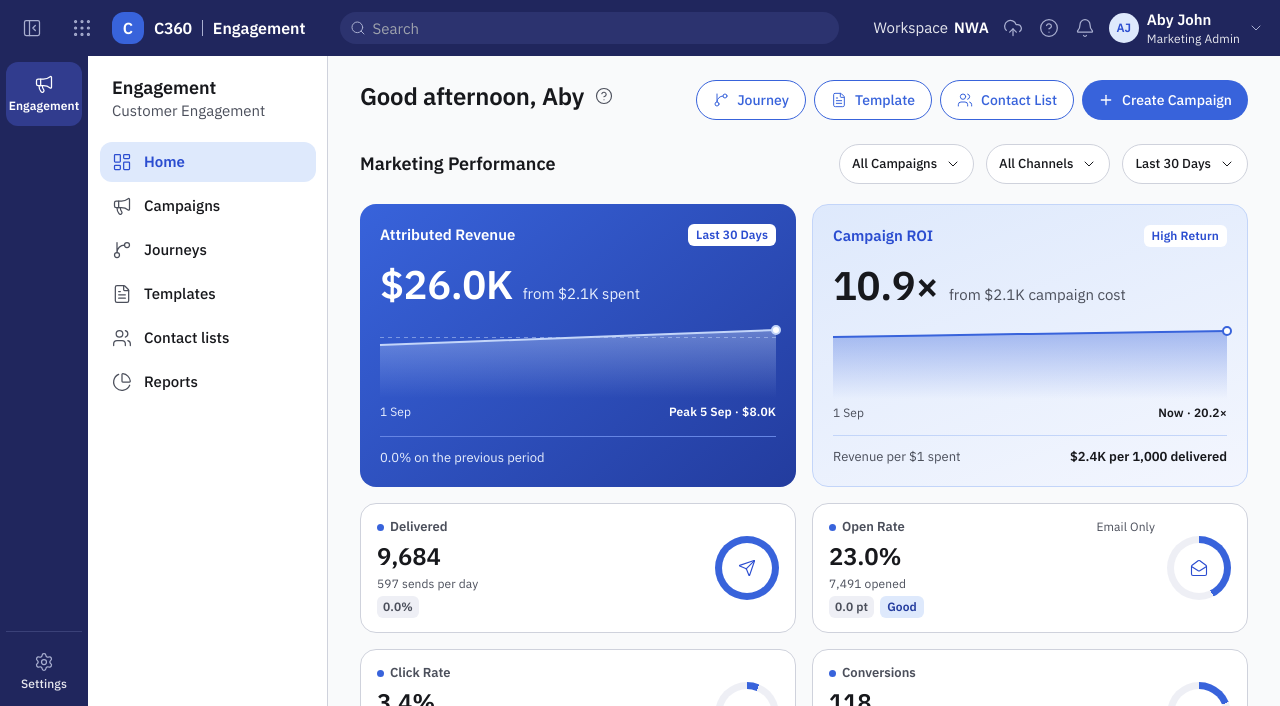
Test: every Create button on Home opens its pop-up on Home, never another page
Click the button "Create Campaign": (1165, 100) 1082,80 -> 1248,120
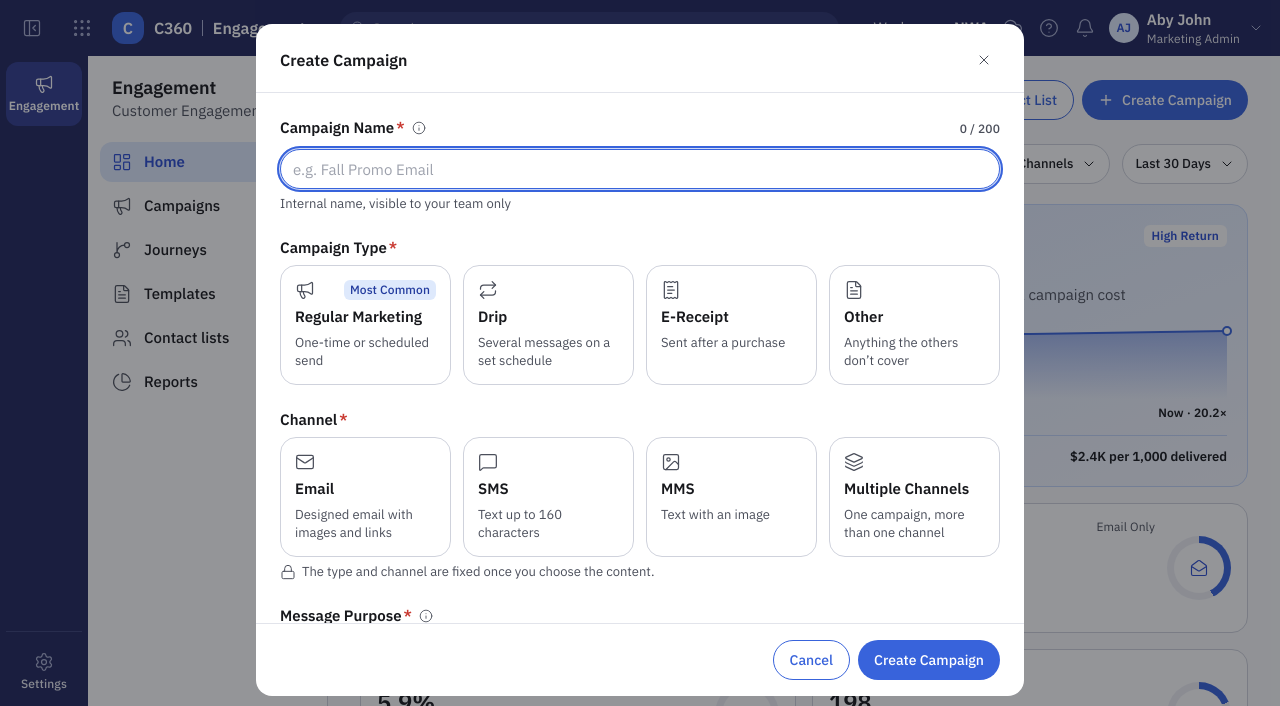
Now the heading "Create Campaign" is shown, box 280,48 -> 407,72
Press Escape
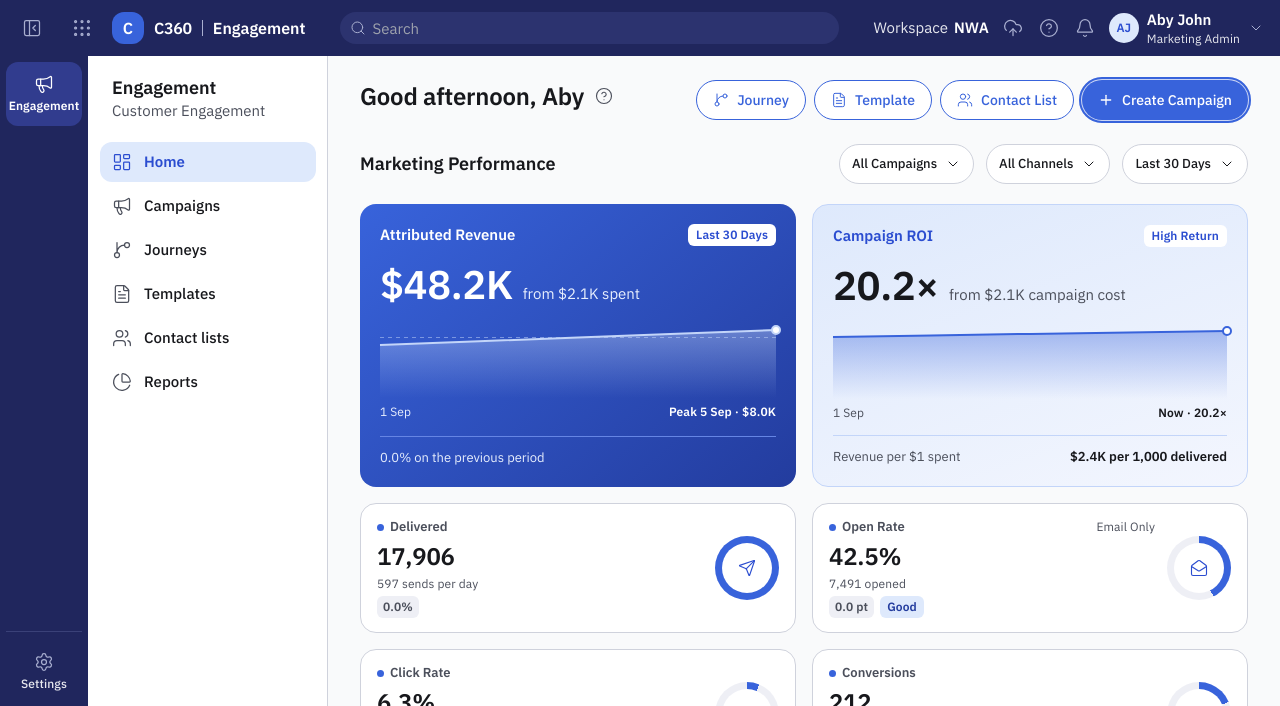
Now the dialog is gone
Click the button "Contact List": (1007, 100) 940,80 -> 1074,120
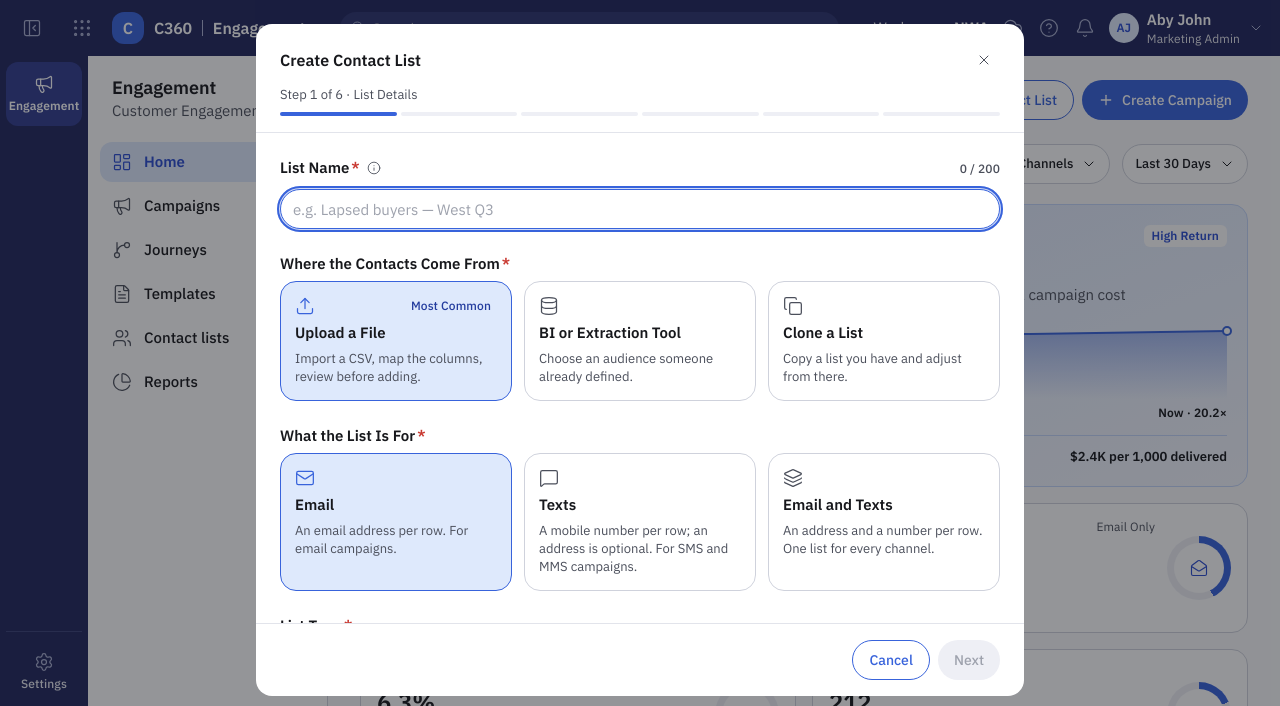
Now the heading "Create Contact List" is shown, box 280,48 -> 421,72
Press Escape
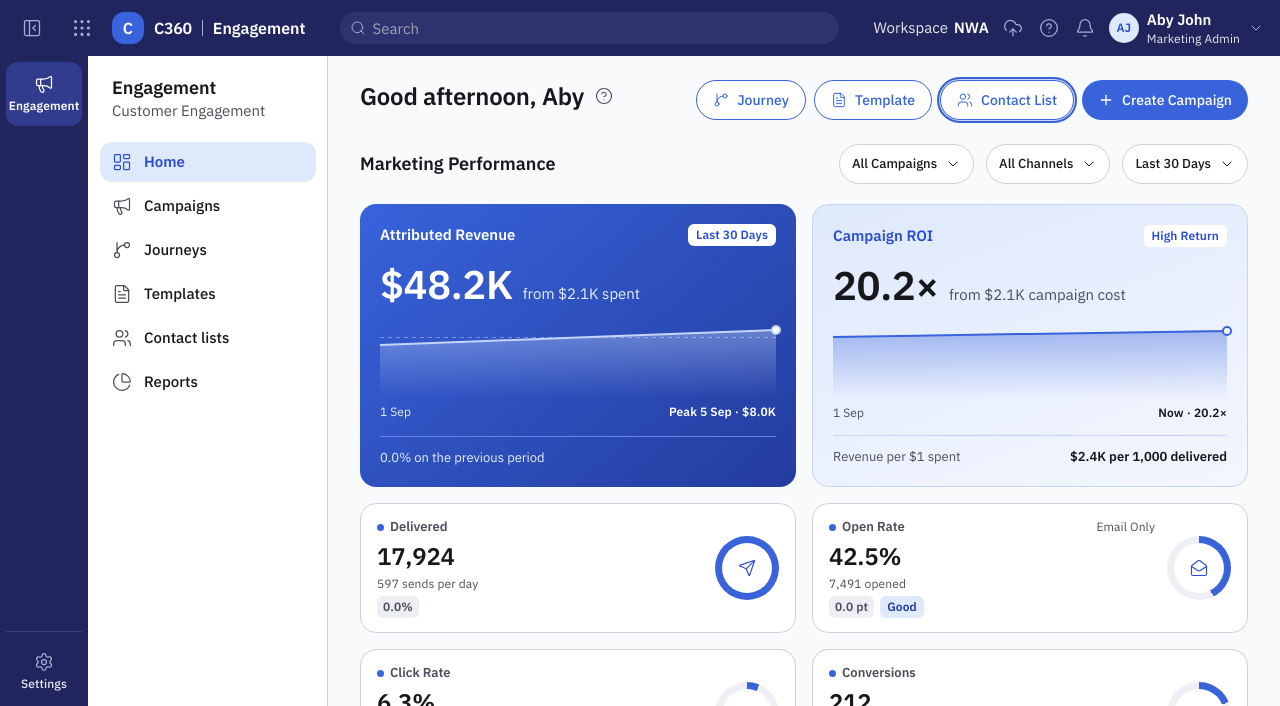
Now the dialog is gone
Click the button "Template": (873, 100) 814,80 -> 932,120
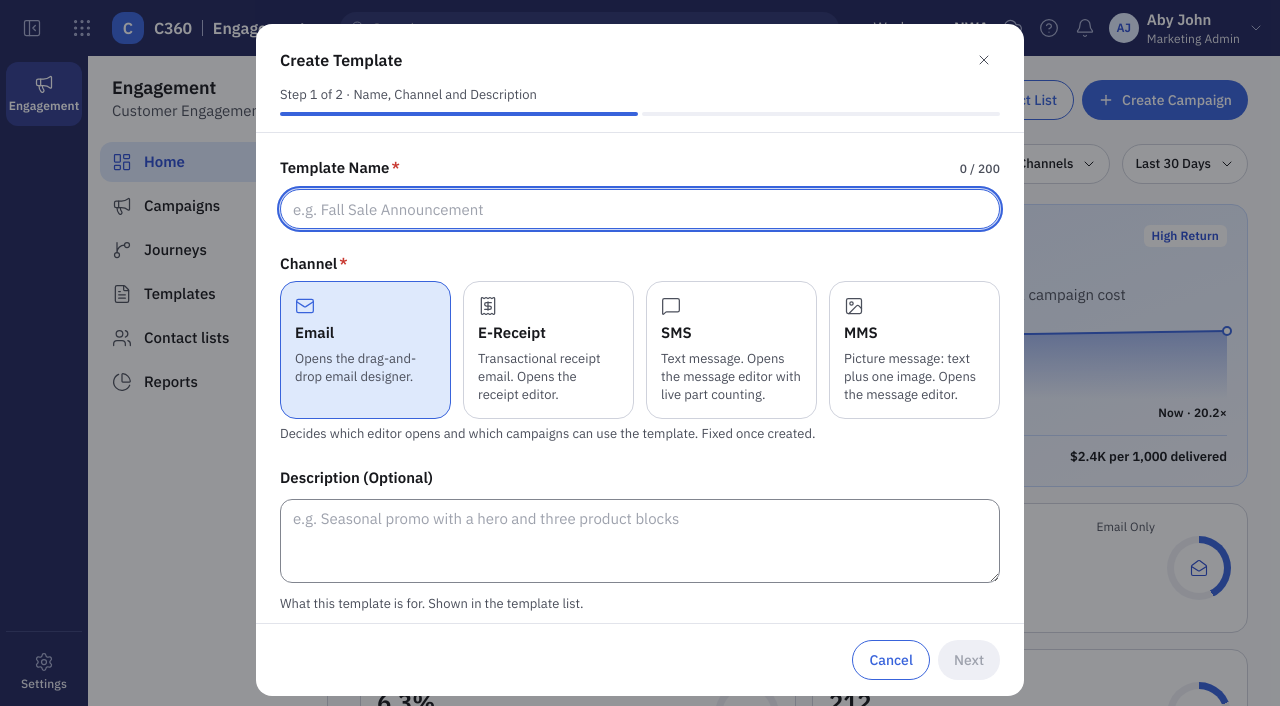
Now the heading "Create Template" is shown, box 280,48 -> 402,72
Press Escape
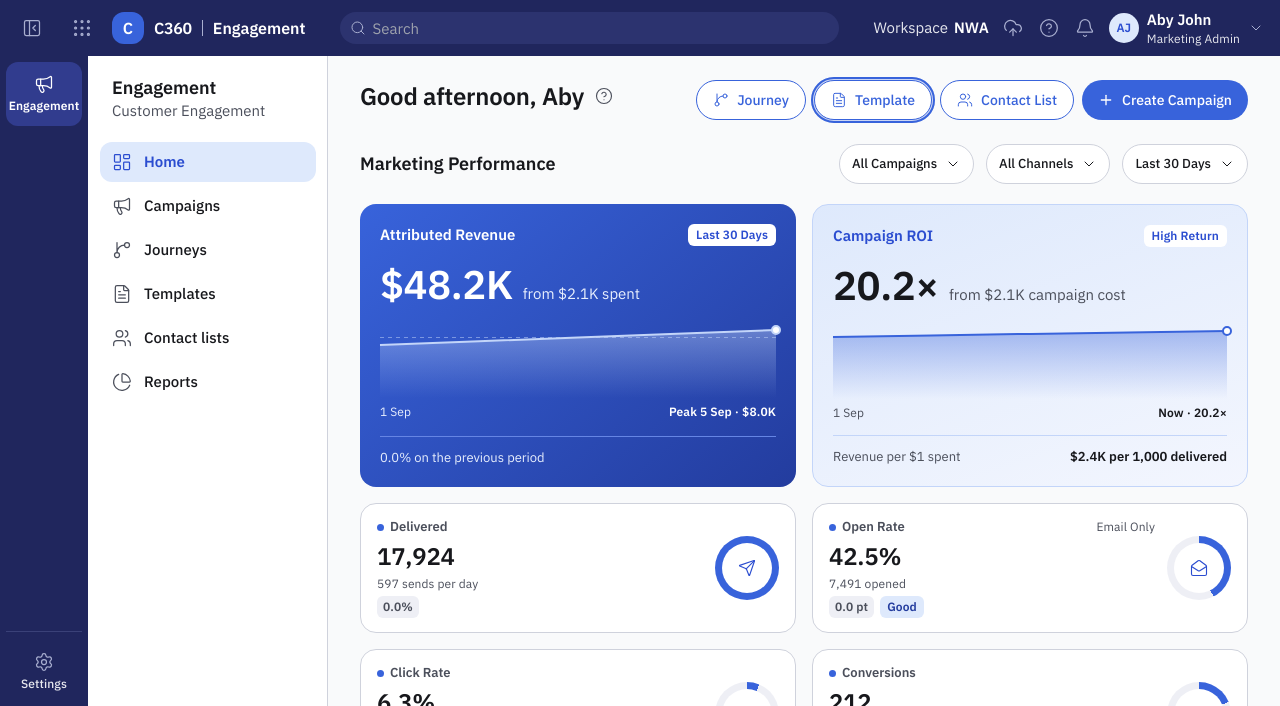
Now the dialog is gone
